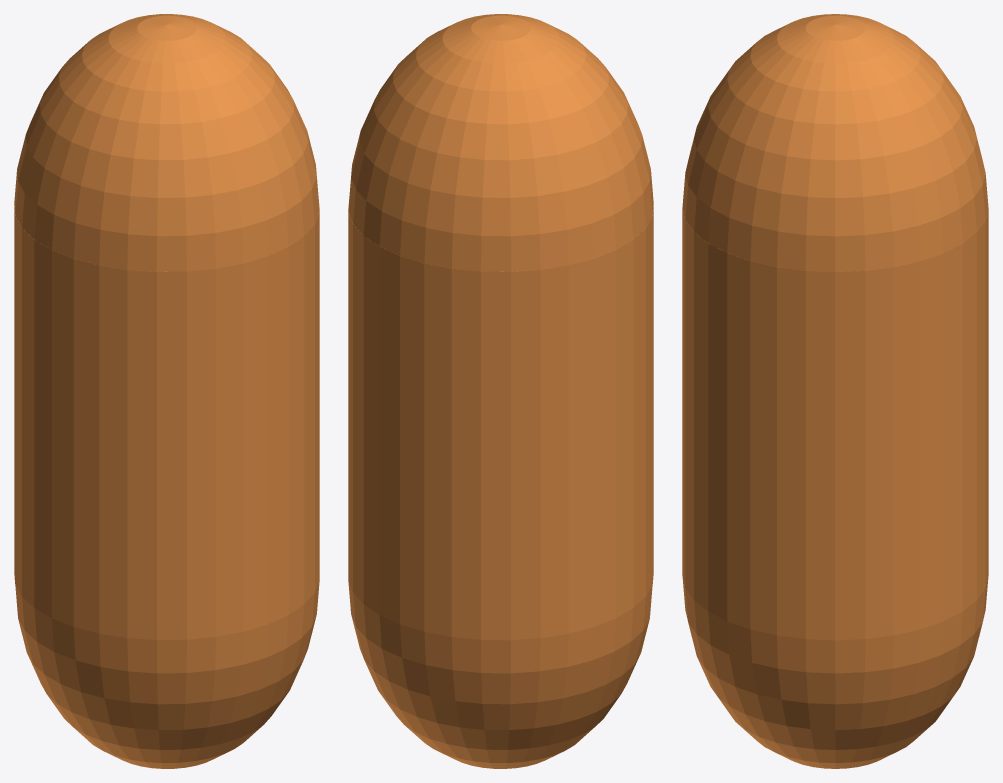
File: kielbasa_02.gltf
The picture shows the model from 3 angles, left to right: view 1: azimuth 30°, elevation 25°; view 2: azimuth 150°, elevation 25°; view 3: azimuth 270°, elevation 25°; orthographic projection.
Visible parts, largest first — view 1: kielbasa_02; view 2: kielbasa_02; view 3: kielbasa_02.
Boxes of the visible parts, left/top/right/bottom form: kielbasa_02: left=14, top=14, right=319, bottom=768; kielbasa_02: left=348, top=14, right=653, bottom=768; kielbasa_02: left=682, top=14, right=988, bottom=768.
Size of the model in its own units: 12.52 by 33.09 by 12.52.
